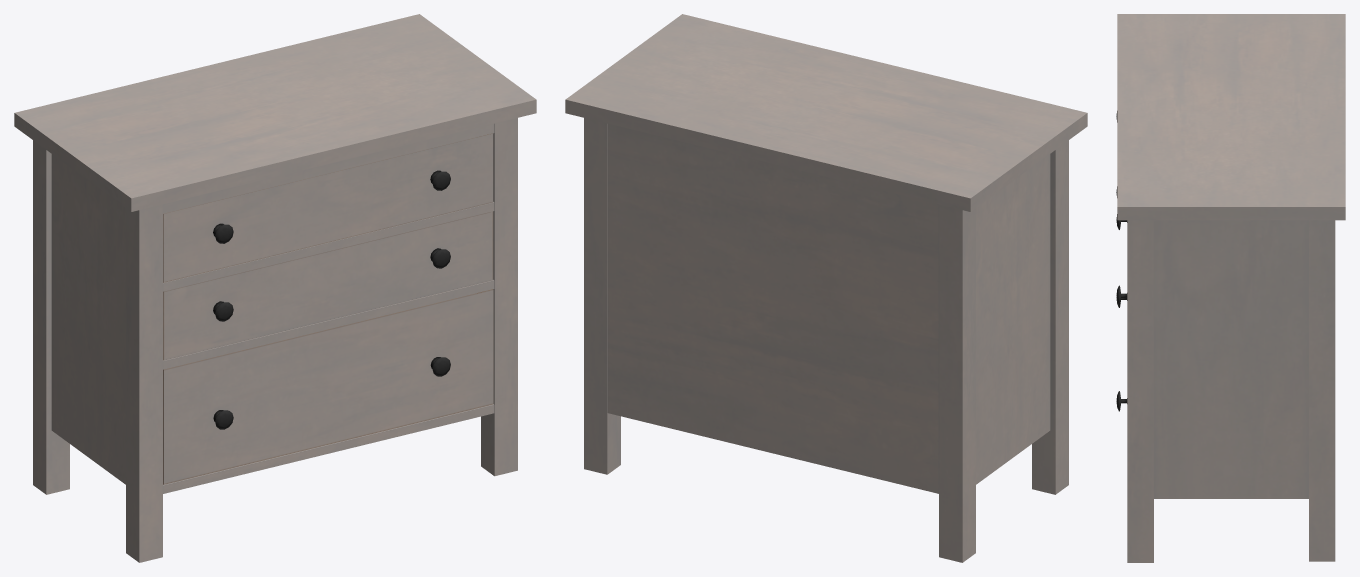
Rendered from cabinet_col5.glb.
The picture shows the model from 3 angles, left to right: view 1: azimuth 30°, elevation 25°; view 2: azimuth 150°, elevation 25°; view 3: azimuth 270°, elevation 25°; orthographic projection. The views are drawn at different scales.
Parts seen in each view (by area): view 1: CabinetA_Drawer.Lower_low_0; view 2: CabinetA_Drawer.Lower_low_0; view 3: CabinetA_Drawer.Lower_low_0.
Part boxes in pixels (x1=…): CabinetA_Drawer.Lower_low_0: x1=14, y1=14, x2=536, y2=562; CabinetA_Drawer.Lower_low_0: x1=565, y1=14, x2=1087, y2=562; CabinetA_Drawer.Lower_low_0: x1=1116, y1=14, x2=1345, y2=562.
Bounding box in the file's own units: 1.1 × 0.9639 × 0.5521.
Materials: 2 (2 with a texture image).
